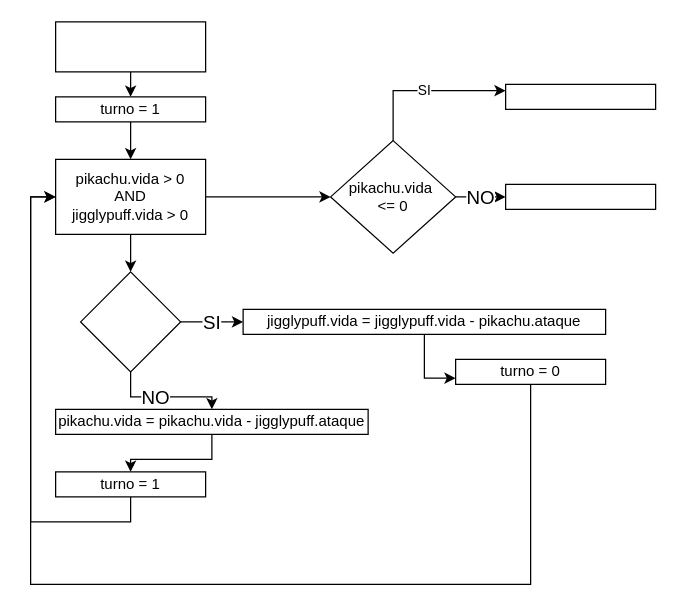
This 678x616 diagram has some shape labels left out. Here are the shapes that lost their labels. From the top down, the centre of each, then its label:
(x=130, y=46): pikachu.vida = 100 jigglypuff.vida = 100
(x=580, y=96): jigglypuff gana
(x=580, y=196): pikachu gana
(x=130, y=321): turno == 1
